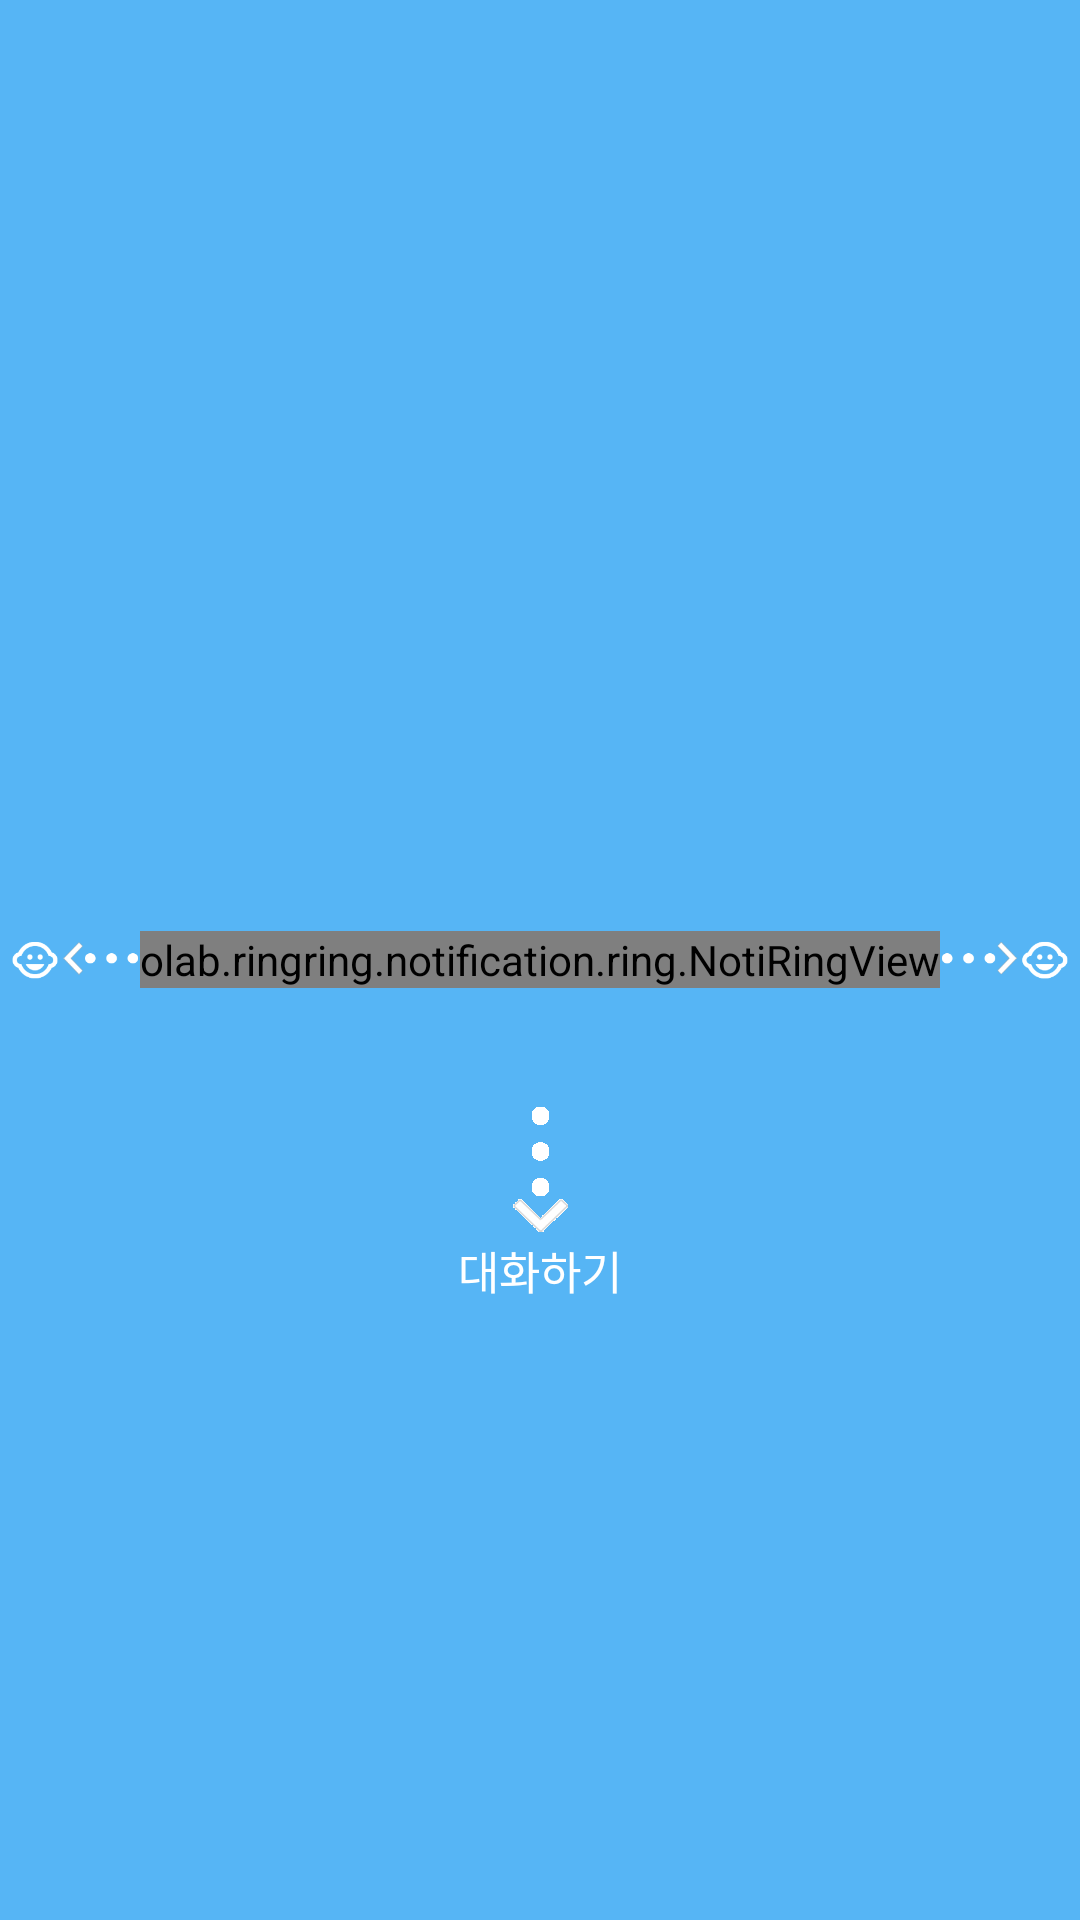

Screen size 1080x1920. Icon name, then its center in pixels as point (x, y):
noti left send: point (75, 960)
noti right send: point (1005, 960)
